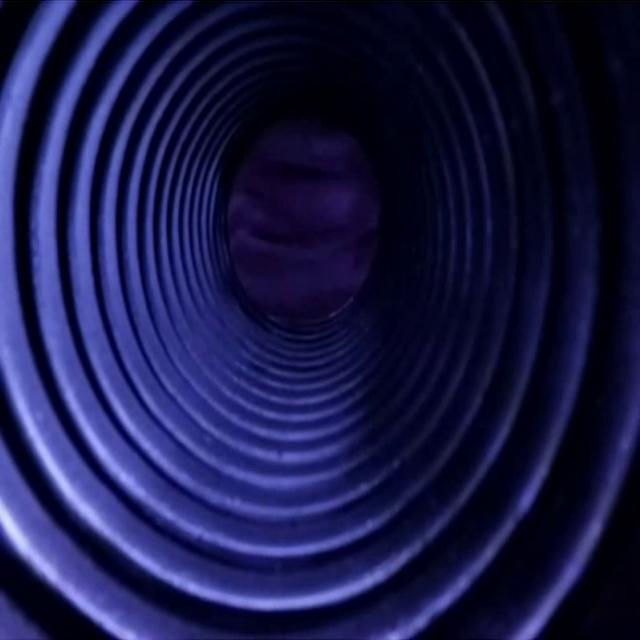block: (216, 121, 382, 332)
